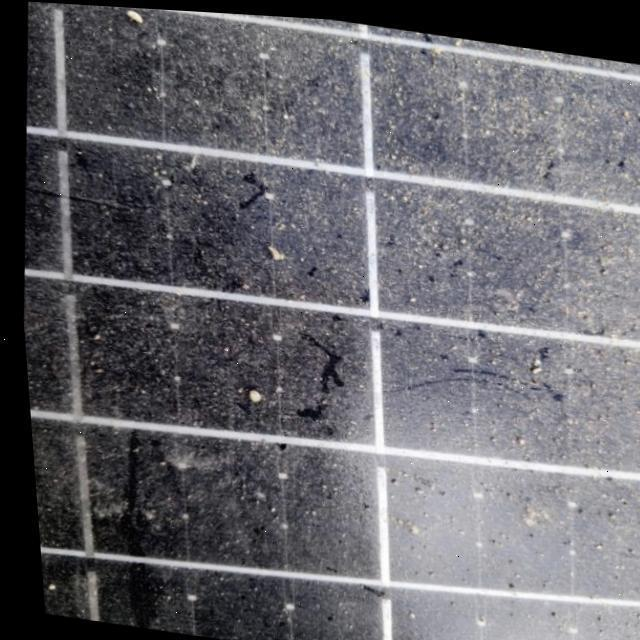Anomaly Solar Panel: (0, 0, 640, 640)
Surface Contaminant: (18, 139, 456, 640)
